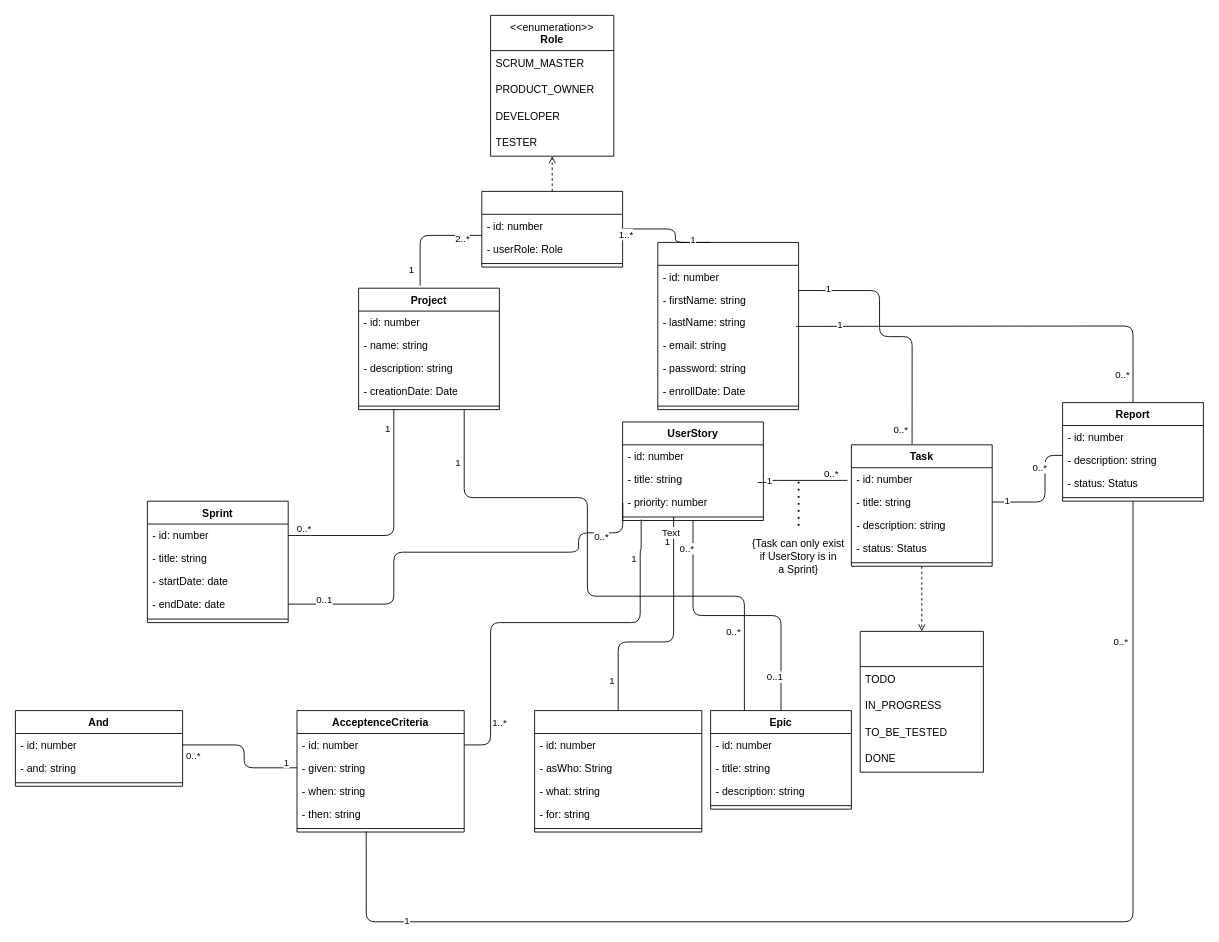
This 1219x942 diagram has some shape labels left out. The shapes that lost their labels are listed below. From the top down, each one's box as (x1, y1, x2, y2) in pixels, then its label:
(481, 191, 623, 267): ProjectMember
(657, 242, 799, 410): User
(859, 631, 983, 772): <<enumeration>> Status
(534, 710, 702, 832): UserStoryDescription
